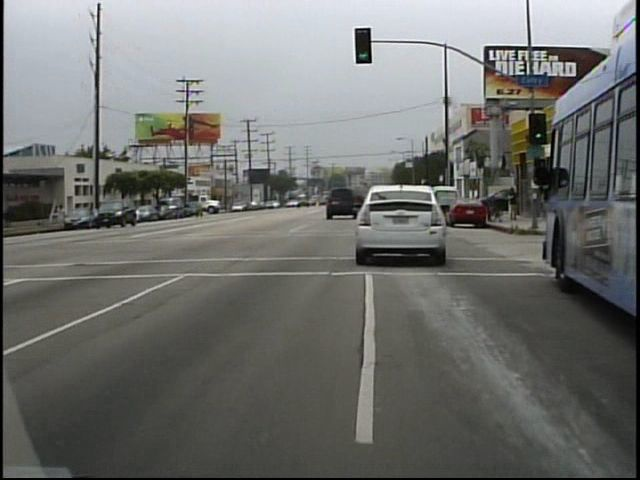person: (503, 181, 524, 228), (66, 203, 67, 228)
